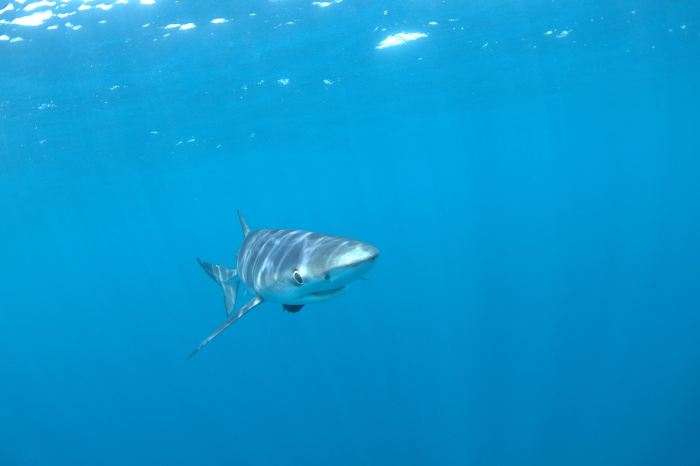Azul: (162, 318, 392, 466)
